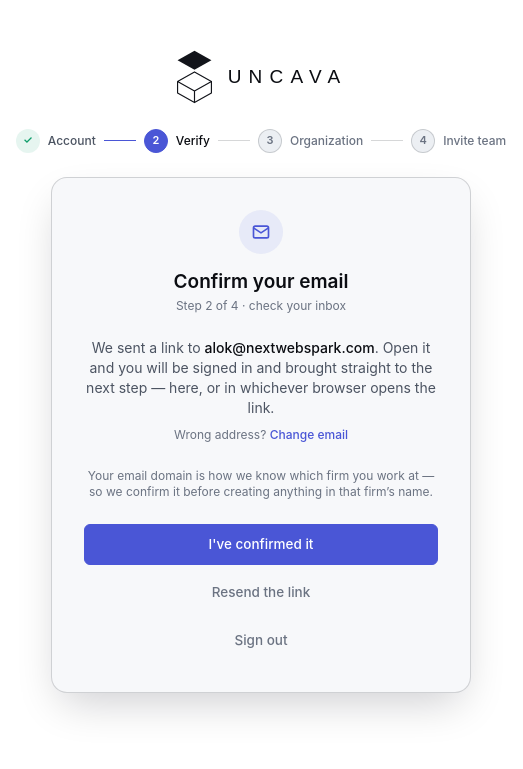
Test case: SignupVerifyStepPage › answers I've confirmed it when the click hasn't been seen yet
Check: the text "alok@nextwebspark.com" is shown, box [204,338,375,356]
What coordinates should you click on to do the following:
click the button "I've confirmed it"
I would click on:
 (261, 544)
Its box is [84,524,438,565].
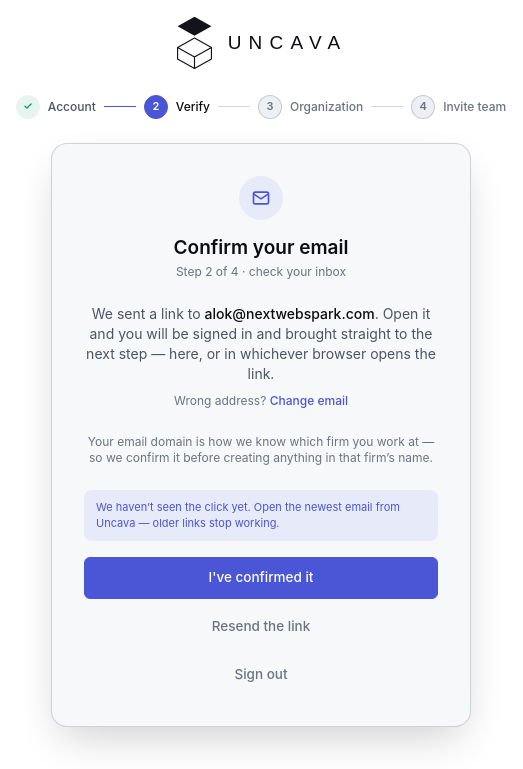
Check: the text "haven’t seen the click yet" is shown, box [96,500,400,530]
